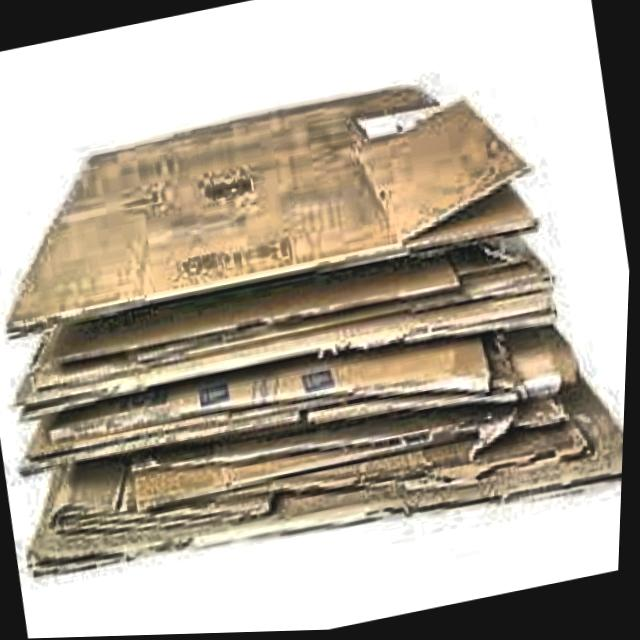Cardbox: (0, 18, 639, 608)
